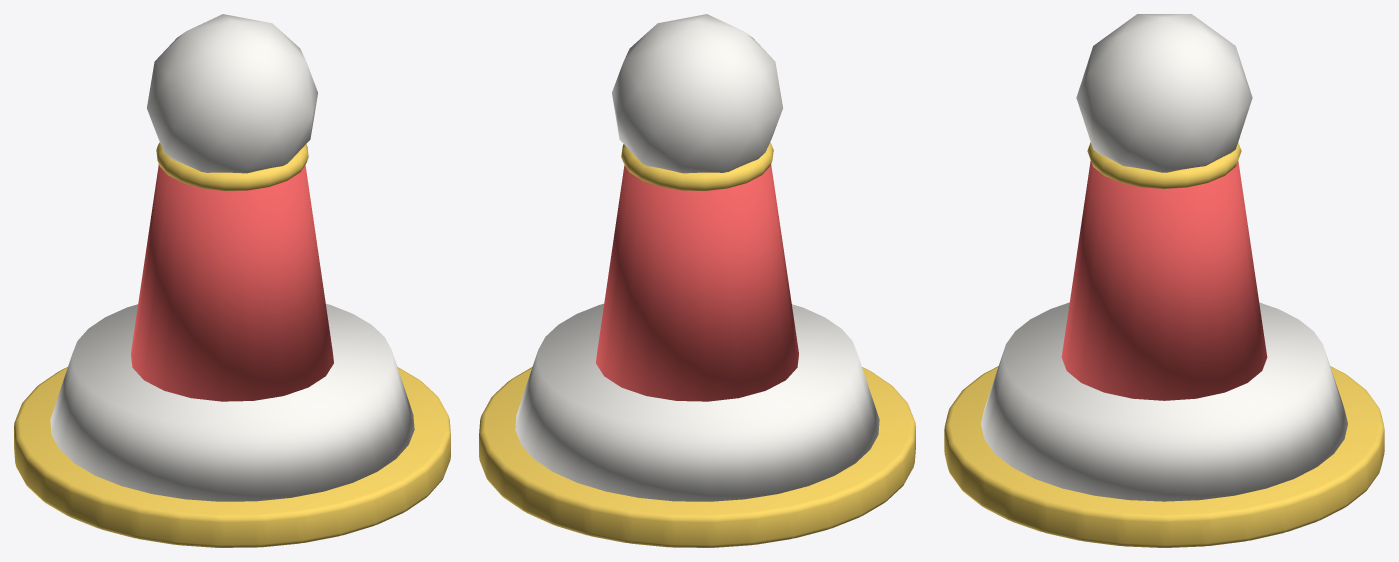
File: Pawn_Base.fbx
3 views of the same model, side by side, from view 1: azimuth 30°, elevation 25°; view 2: azimuth 150°, elevation 25°; view 3: azimuth 270°, elevation 25° (orthographic).
Parts seen in each view (by area): view 1: Pawn_Base; view 2: Pawn_Base; view 3: Pawn_Base.
Part boxes in pixels (bbox=[...]): Pawn_Base: bbox=[14, 14, 450, 547]; Pawn_Base: bbox=[479, 14, 915, 547]; Pawn_Base: bbox=[944, 14, 1384, 547].
Size of the model in its own units: 0.5991 by 0.66 by 0.5991.
